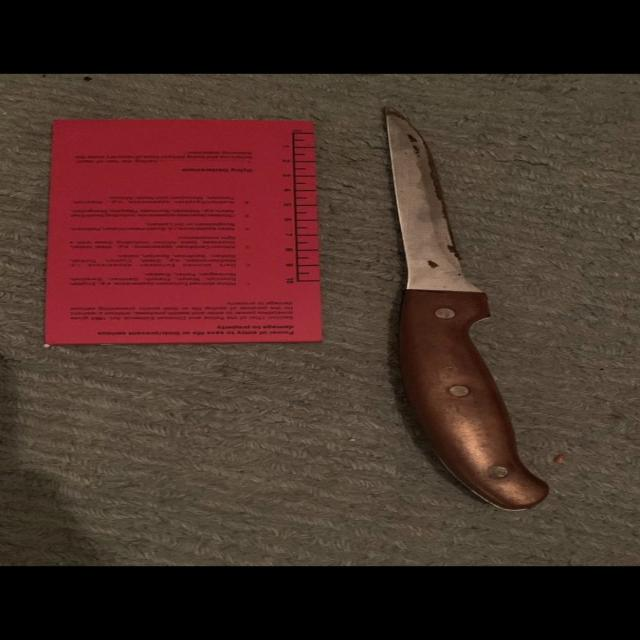Sharp-Object: (374, 103, 552, 509)
